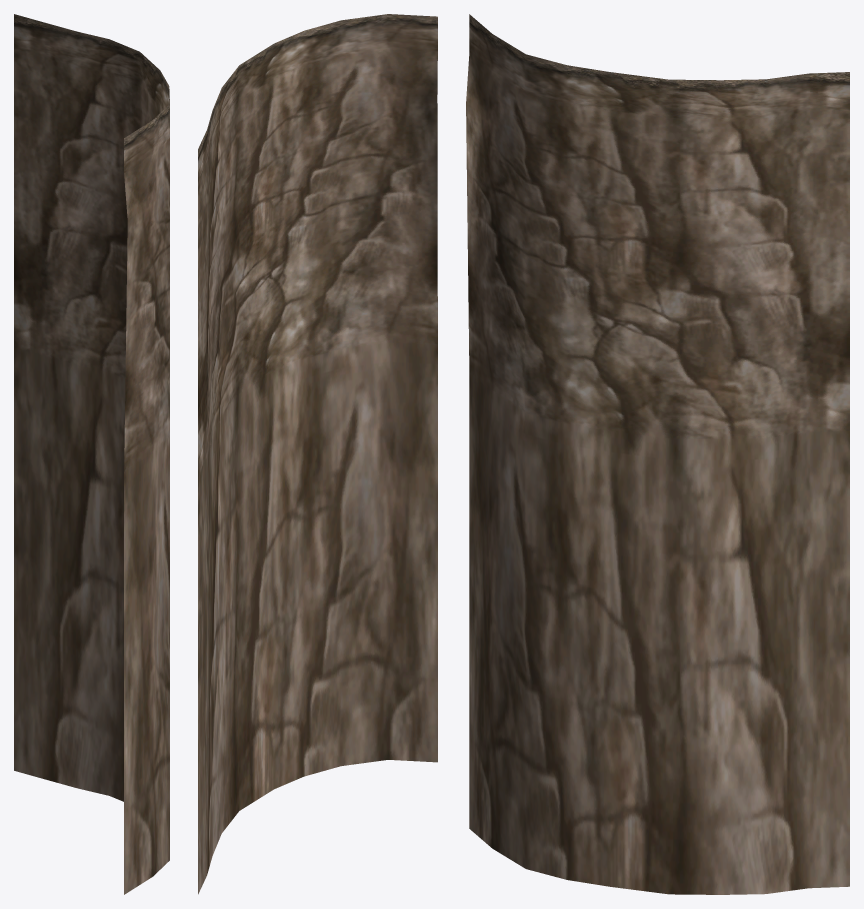
Rendered from OVERHILL_A_01_LINE76.fbx.
3 renders of one model, left to right at view 1: azimuth 30°, elevation 25°; view 2: azimuth 150°, elevation 25°; view 3: azimuth 270°, elevation 25°, orthographic. The views are drawn at different scales.
Visible parts, largest first — view 1: OVERHILL_A_01_LINE76; view 2: OVERHILL_A_01_LINE76; view 3: OVERHILL_A_01_LINE76.
Boxes of the visible parts, bbox=[...] form: OVERHILL_A_01_LINE76: bbox=[14, 14, 169, 894]; OVERHILL_A_01_LINE76: bbox=[198, 14, 437, 894]; OVERHILL_A_01_LINE76: bbox=[466, 14, 849, 894].
Size of the model in its own units: 32102 by 219910 by 91254.
Materials: 2 (2 with a texture image).
